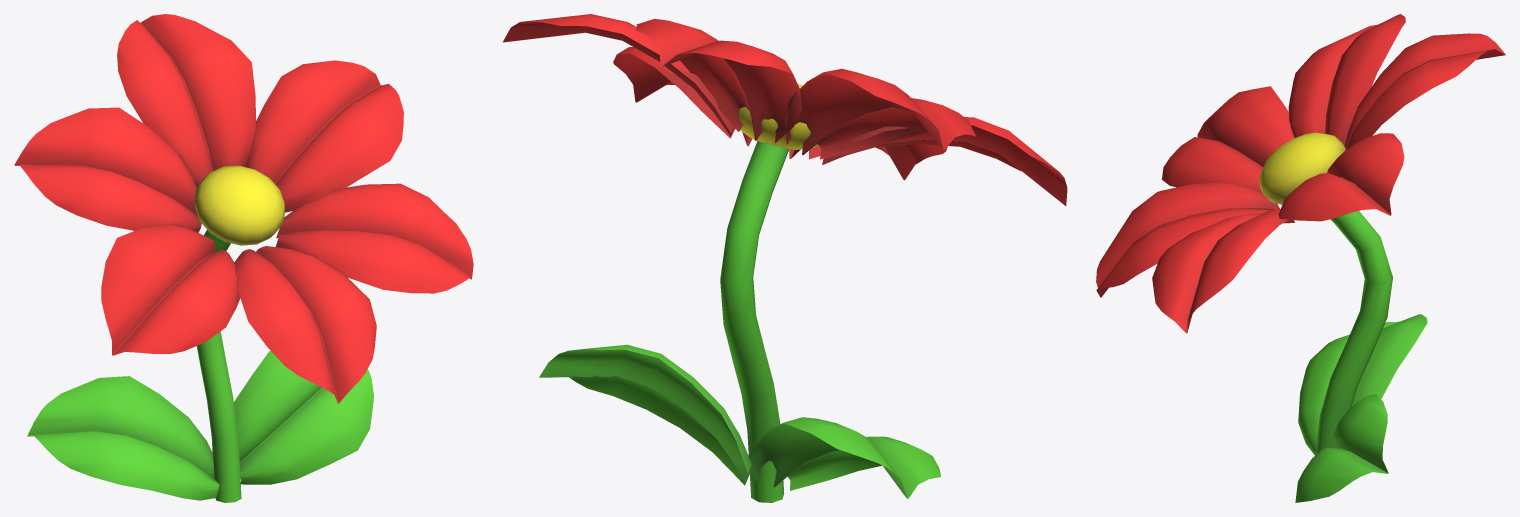
Rendered from flowerred.fbx.
The picture shows the model from 3 angles, left to right: view 1: azimuth 30°, elevation 25°; view 2: azimuth 150°, elevation 25°; view 3: azimuth 270°, elevation 25°; orthographic projection. The views are drawn at different scales.
Parts seen in each view (by area): view 1: polySurface29, polySurface31, pSphere1; view 2: polySurface29, polySurface31, pSphere1; view 3: polySurface29, polySurface31, pSphere1.
Part boxes in pixels (x1,y1,x2,y2): polySurface29: [14, 14, 473, 403]; polySurface31: [27, 230, 373, 502]; pSphere1: [194, 165, 285, 245]; polySurface29: [502, 14, 1067, 205]; polySurface31: [539, 141, 940, 502]; pSphere1: [738, 83, 818, 149]; polySurface29: [1096, 14, 1505, 333]; polySurface31: [1295, 211, 1427, 502]; pSphere1: [1259, 132, 1345, 204].
Bounding box in the file's own units: 1.96 × 2.17 × 1.86.
